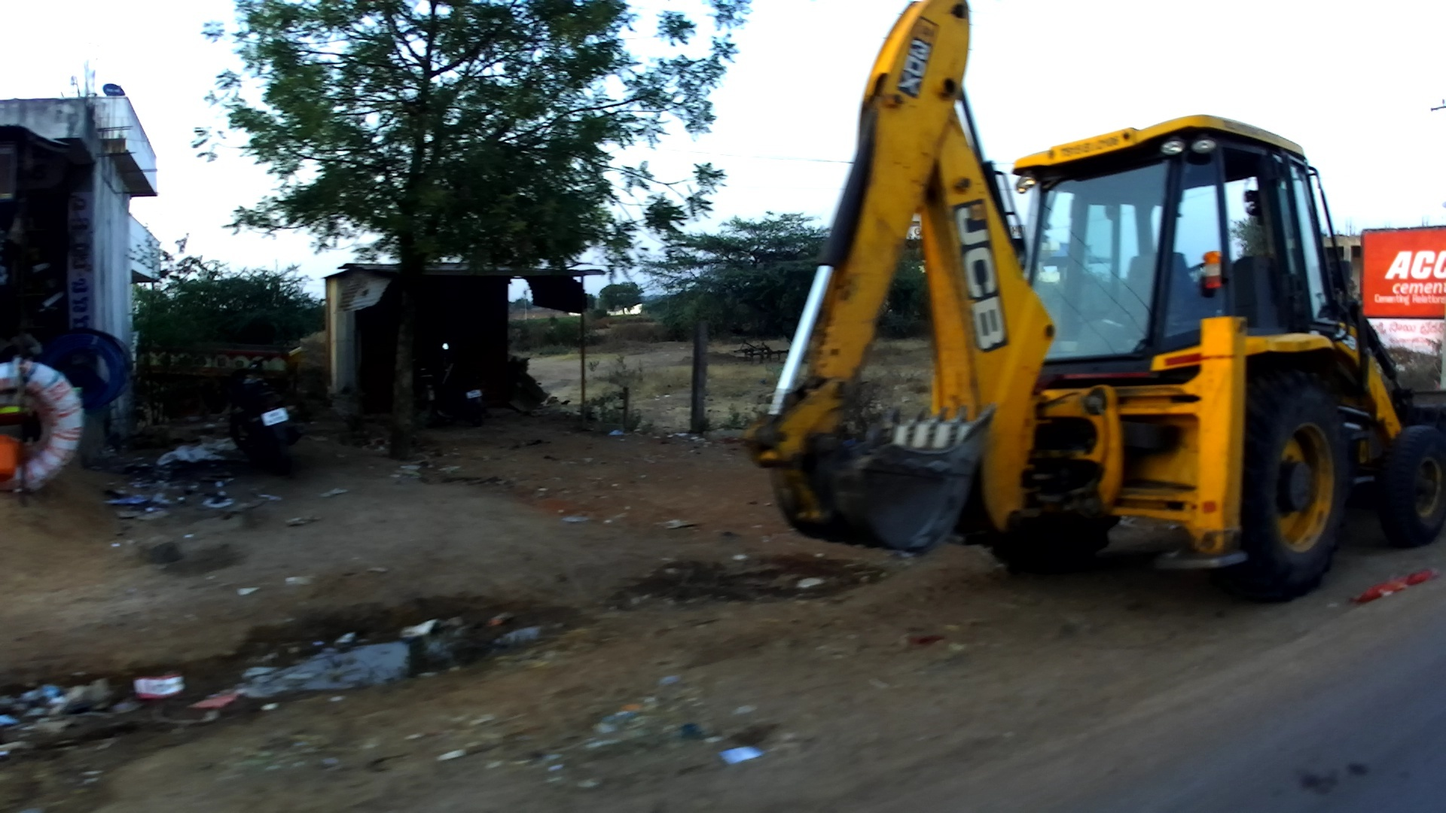motorcycle: (222, 356, 309, 485), (413, 336, 490, 431)
vehicle fallback: (740, 1, 1446, 607)
